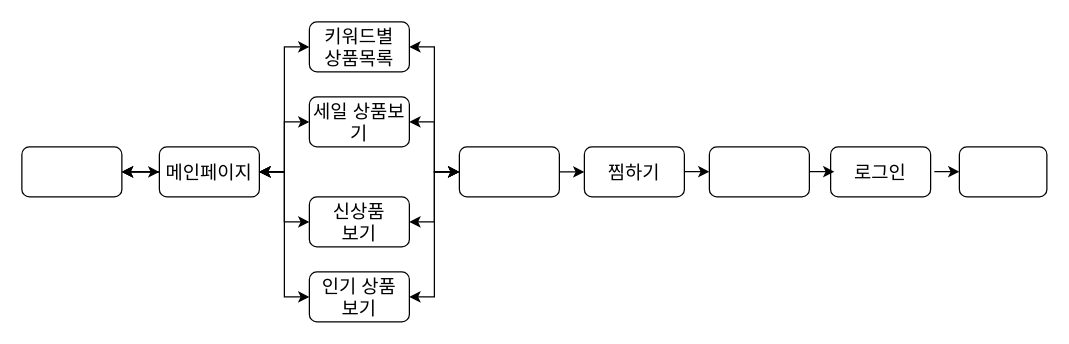
Some shapes in this 1069 by 344 pixel diagram are drawn without their labels. Here are the shapes that lost their labels. From the top down, the centre of each, then its label:
At (71,171): "사용자".
At (508,171): "상품 조회".
At (758,171): "관심목록".
At (1002,171): "쿠폰".
